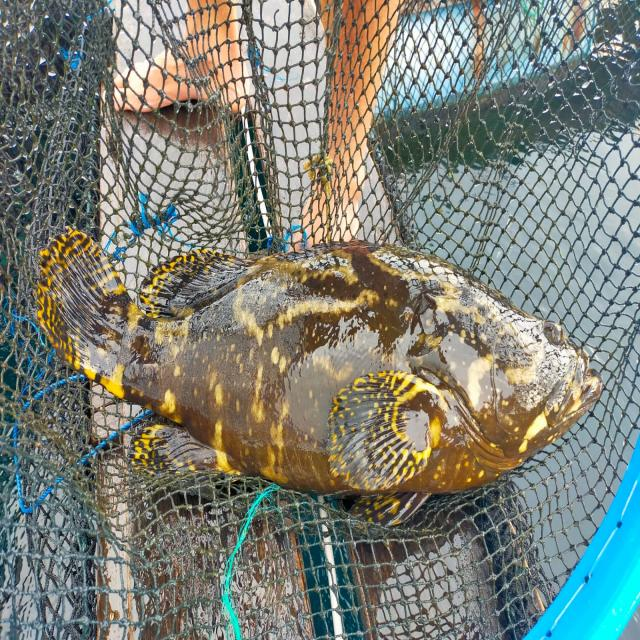grouper: (31, 219, 600, 532)
